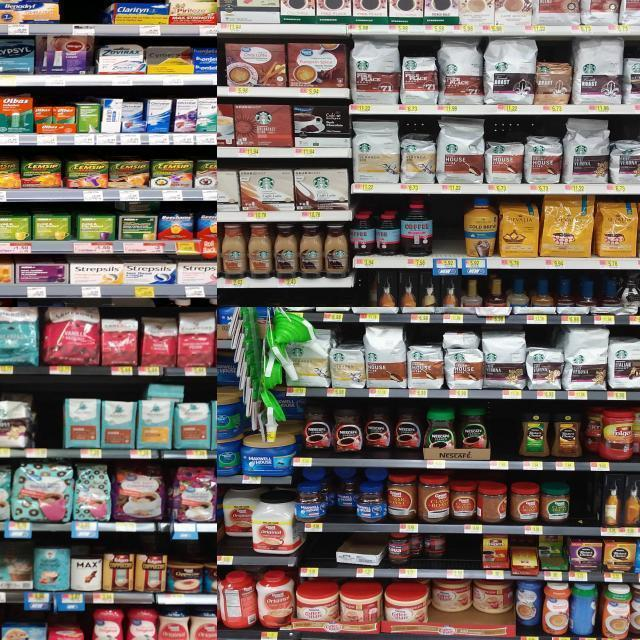Imprecise: (422, 574, 516, 634), (322, 464, 359, 524), (0, 544, 38, 593), (408, 530, 452, 570), (582, 407, 608, 459), (512, 529, 542, 573)
